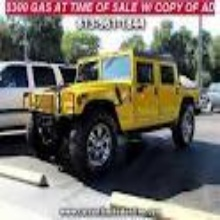no damage: (24, 52, 201, 177), (1, 61, 71, 140)
